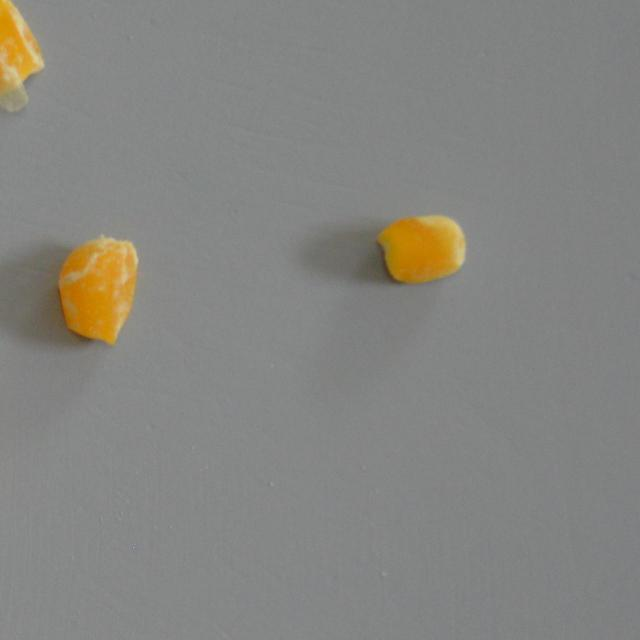no_canjicado: (375, 214, 472, 284)
pelicula: (55, 235, 138, 345), (0, 0, 48, 111)
